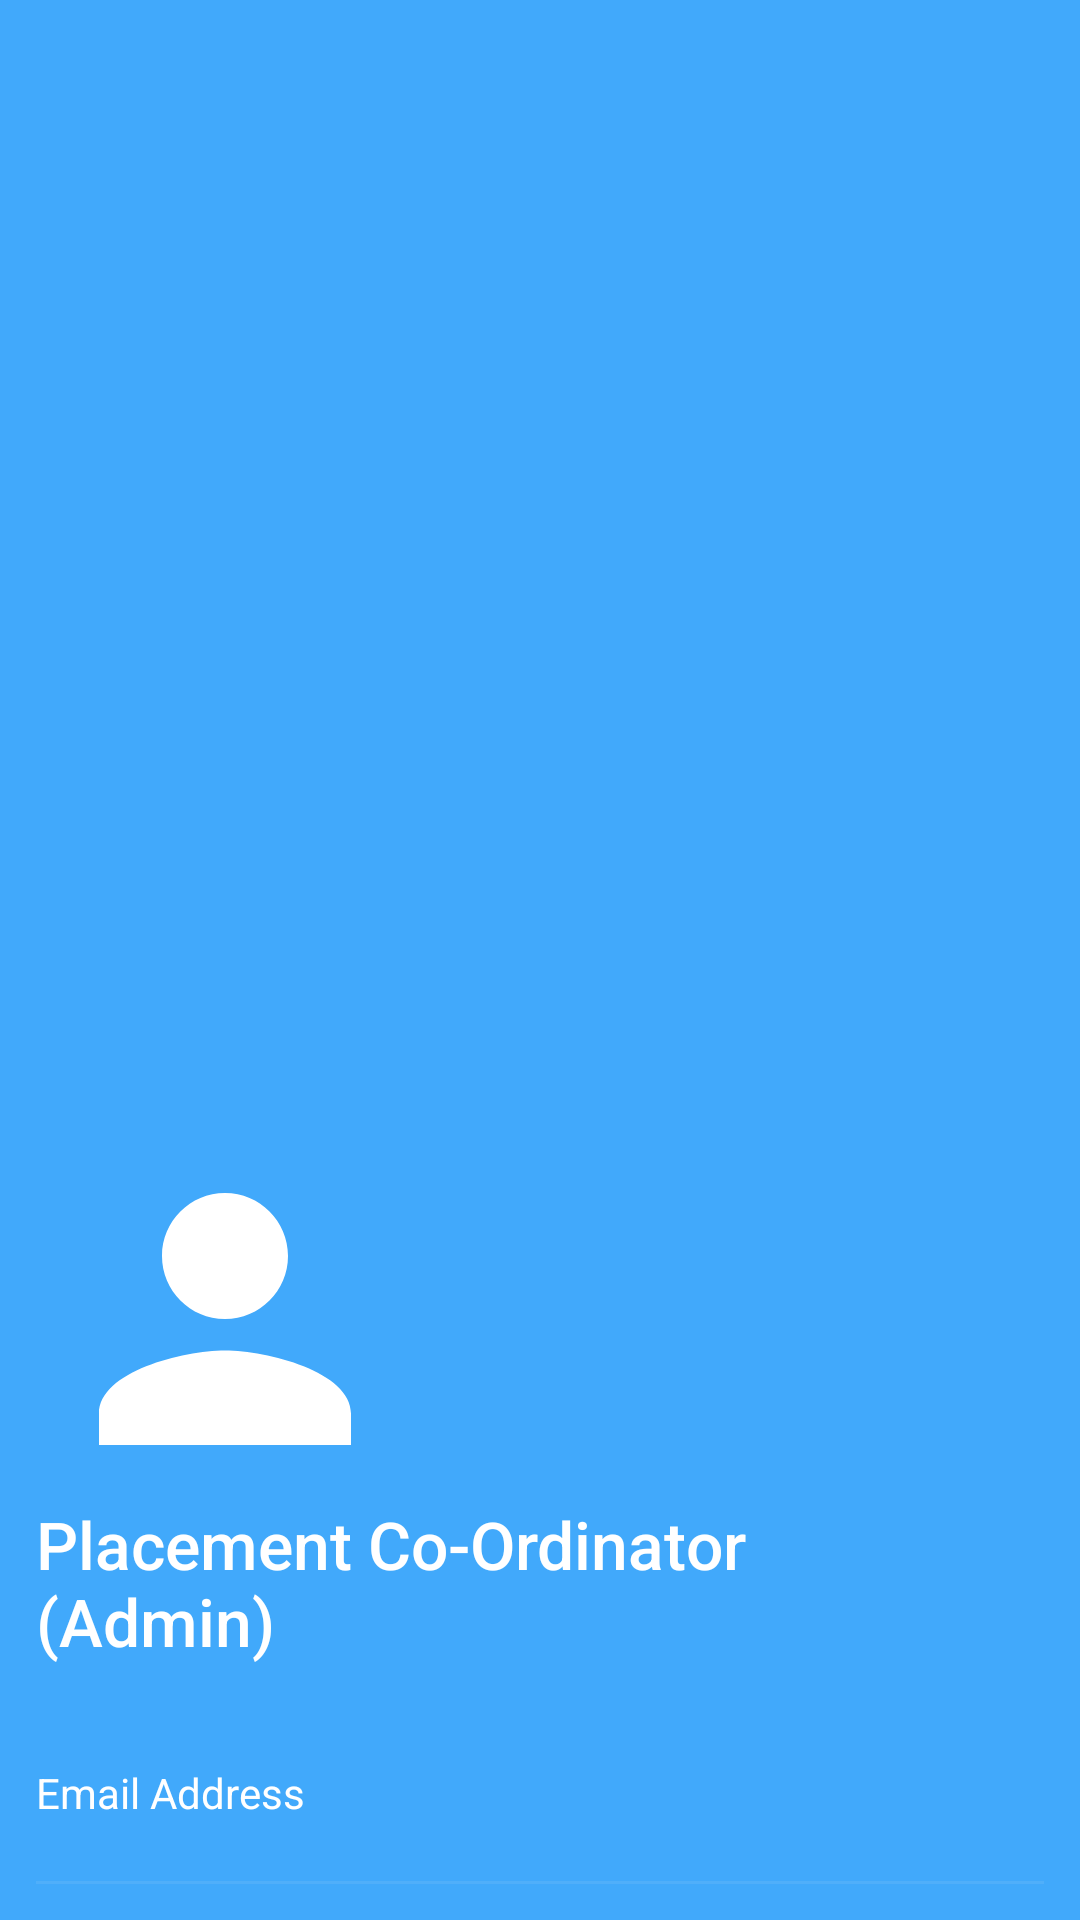

Screen size 1080*1920. Icon name, then its center in pixels as (x=x, y=y):
person: (x=225, y=1319)
